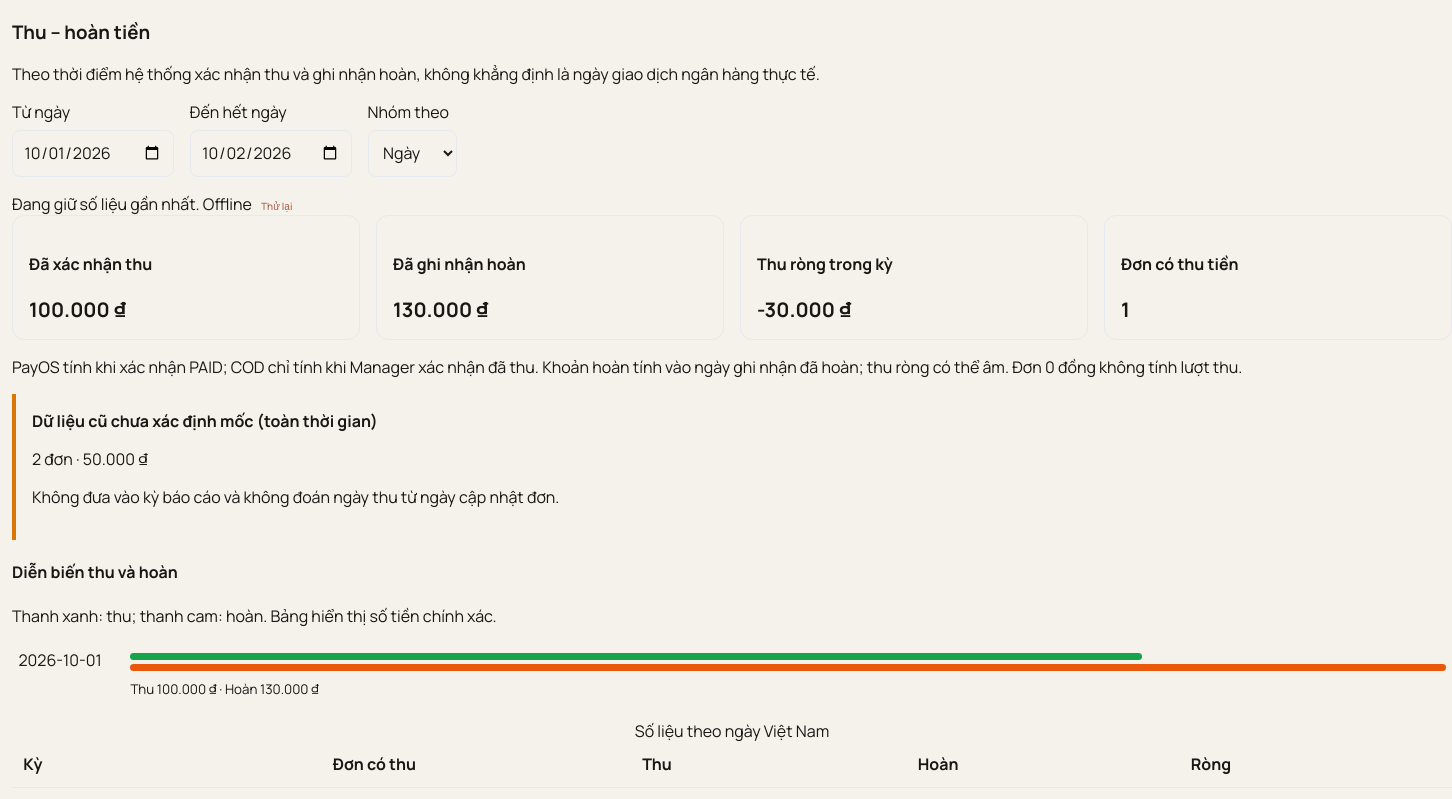
Test case: polls without replacing good data on error and pauses hidden tabs
Expected: the message shows "số liệu gần nhất", [12,193,203,215]
Click the button "Thử lại": [277, 206] box [255,198,298,214]
Wait 10000 ms
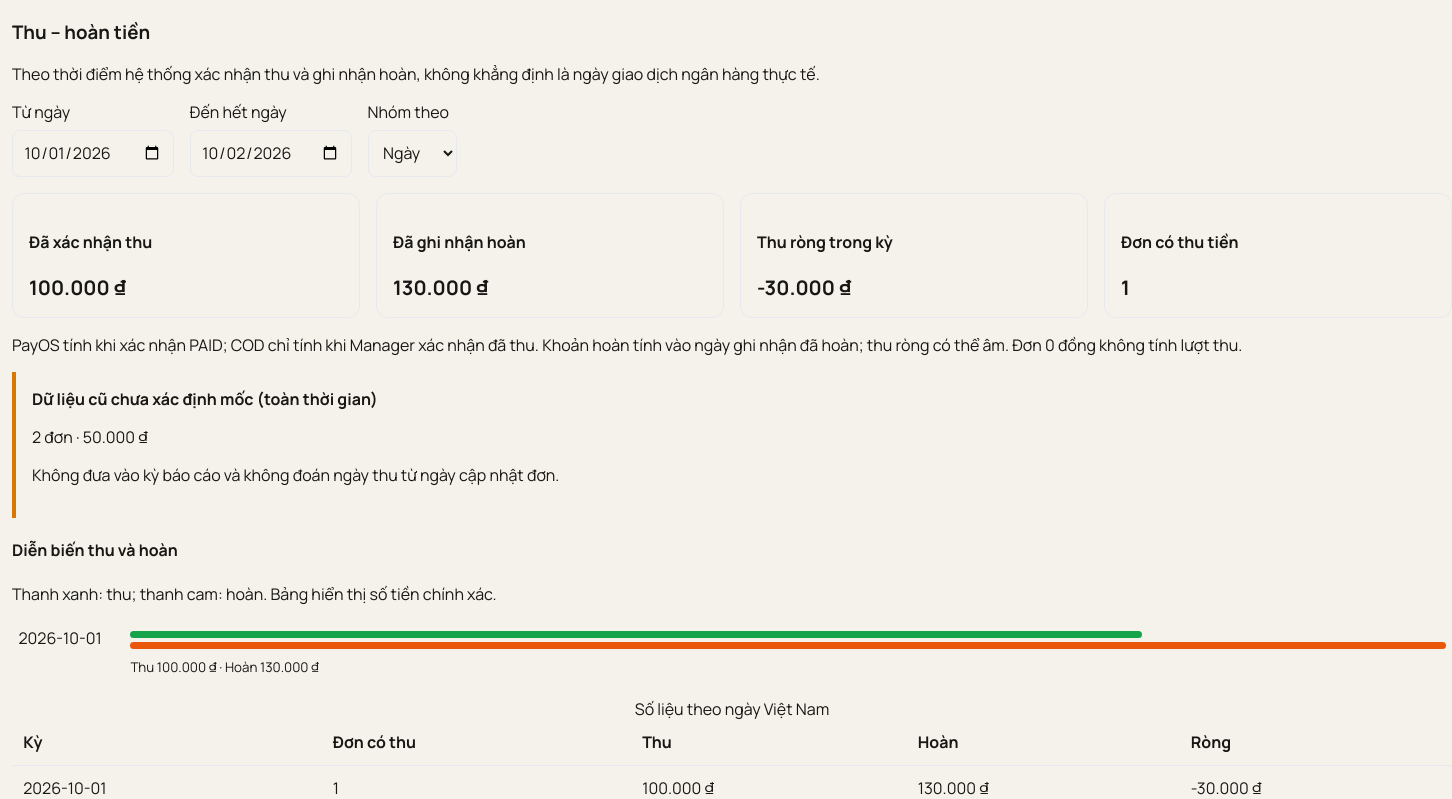
Expected: the message "Đang giữ số liệu gần nhất. Offline Thử lại" is gone
